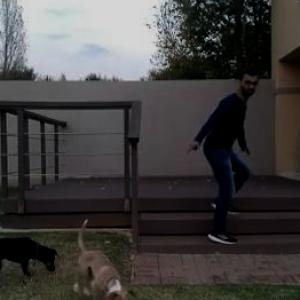land: (186, 65, 264, 242)
